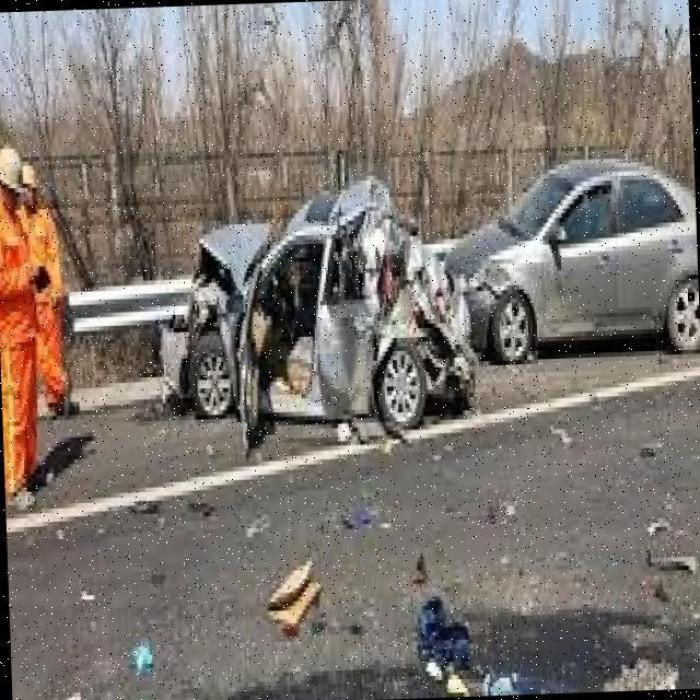Accident: (162, 178, 512, 460)
